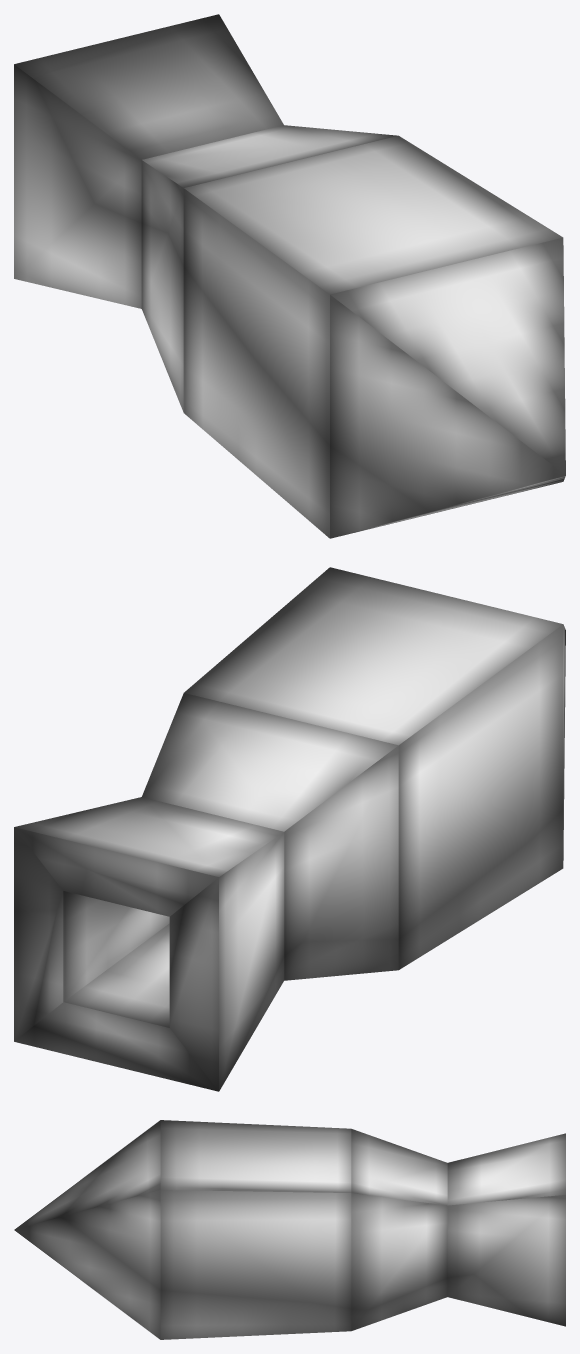
The model's file is Bomb-01.fbx.
The picture shows the model from 3 angles, top to bottom: view 1: azimuth 30°, elevation 25°; view 2: azimuth 150°, elevation 25°; view 3: azimuth 270°, elevation 25°; orthographic projection. The views are drawn at different scales.
Visible parts, largest first — view 1: Bomb; view 2: Bomb; view 3: Bomb.
Boxes of the visible parts, left/top/right/bottom form: Bomb: left=14, top=14, right=565, bottom=538; Bomb: left=14, top=567, right=565, bottom=1091; Bomb: left=14, top=1120, right=565, bottom=1339.
Bounding box in the file's own units: 0.0602 × 0.0602 × 0.2009.
